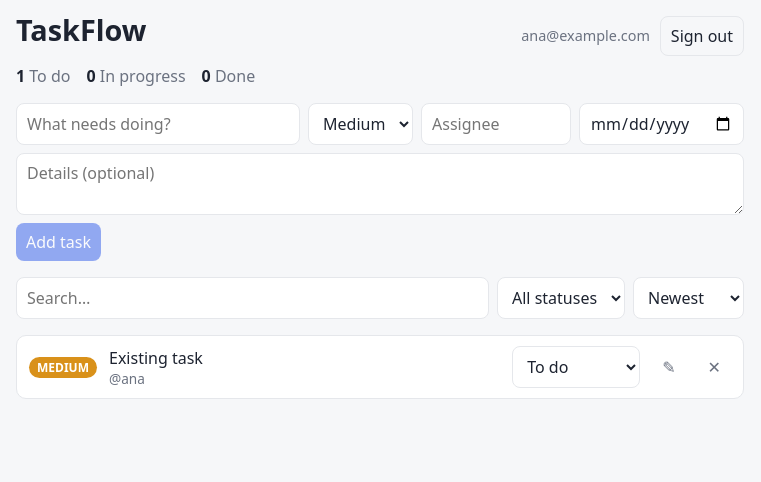
Test: signing in › returns to sign-in with a notice when the session expires
The image size is (761, 482).
Check: the text "Existing task" is shown, box 109,346 -> 203,368
Select "Done" in the dropdown named "Status of Existing task" at (576, 367), box 512,346 -> 640,388
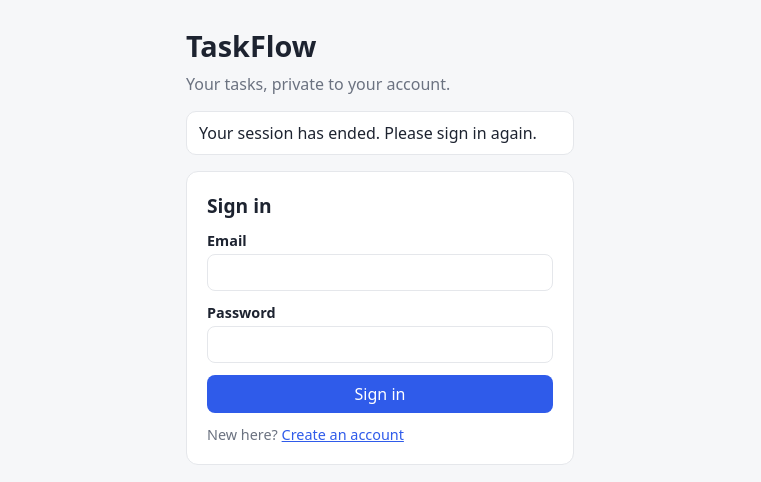
Check: the heading "Sign in" is shown, box 207,192 -> 272,219
Check: the message shows "session has ended", box 199,122 -> 537,144
